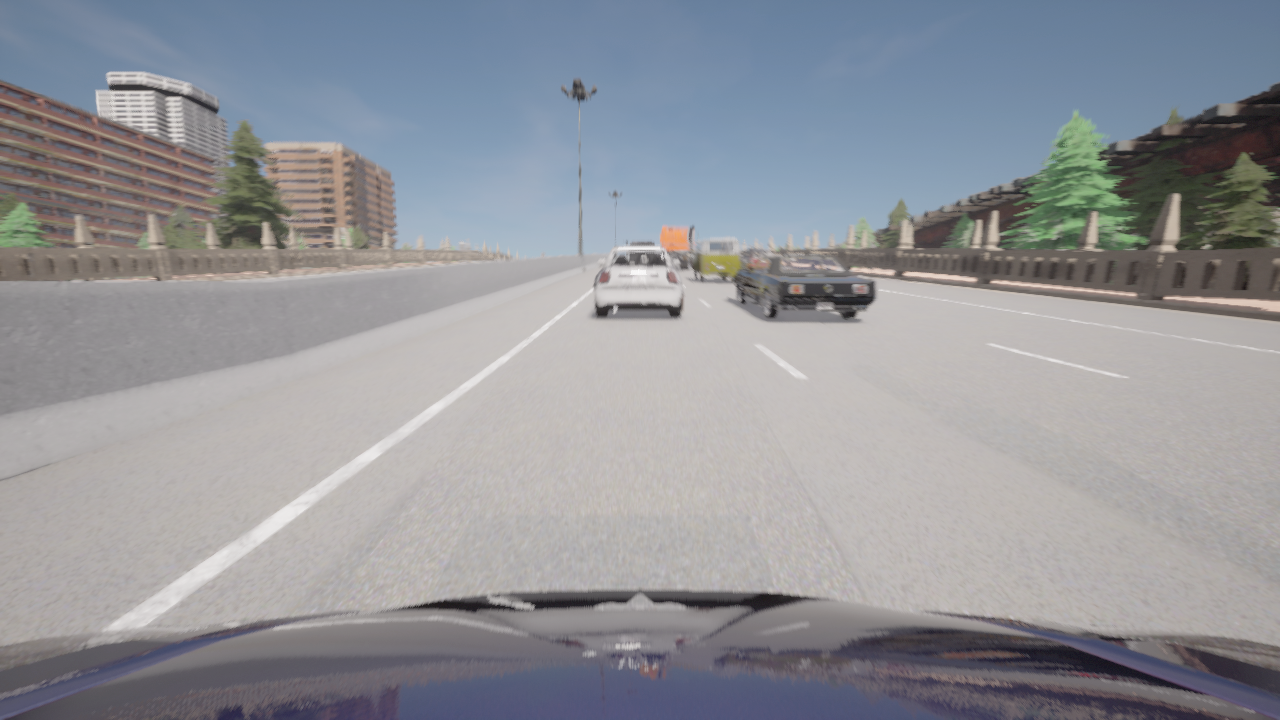cyclist: (0, 588, 1279, 719), (735, 255, 875, 318), (594, 247, 682, 317), (691, 238, 739, 282), (660, 225, 699, 270), (739, 248, 773, 270), (630, 242, 654, 246)
pedestrian: (869, 242, 877, 269)
